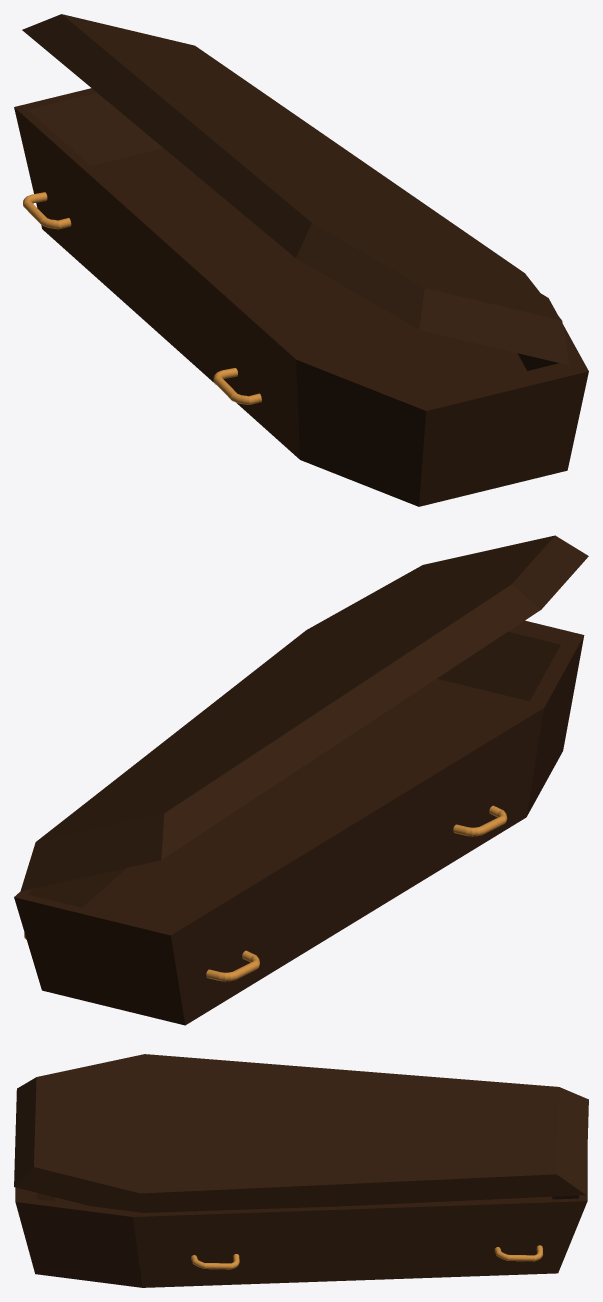
Rendered from grobik.fbx.
3 views of the same model, one above another, from view 1: azimuth 30°, elevation 25°; view 2: azimuth 150°, elevation 25°; view 3: azimuth 270°, elevation 25° (orthographic). The views are drawn at different scales.
Parts seen in each view (by area): view 1: Cube, Cube.001, Cylinder.002, Cylinder.003; view 2: Cube, Cube.001, Cylinder.002, Cylinder.003; view 3: Cube.001, Cube, Cylinder.004, Cylinder.005.
Boxes of the visible parts, bbox=[...] form: Cube: bbox=[14, 88, 588, 506]; Cube.001: bbox=[22, 14, 569, 365]; Cylinder.002: bbox=[213, 368, 261, 404]; Cylinder.003: bbox=[23, 192, 71, 229]; Cube: bbox=[14, 620, 584, 1025]; Cube.001: bbox=[20, 535, 588, 891]; Cylinder.002: bbox=[453, 805, 507, 836]; Cylinder.003: bbox=[206, 950, 259, 981]; Cube.001: bbox=[14, 1054, 588, 1212]; Cube: bbox=[15, 1151, 587, 1287]; Cylinder.004: bbox=[191, 1254, 239, 1269]; Cylinder.005: bbox=[494, 1245, 543, 1261].
Size of the model in its own units: 218 by 176 by 572.
